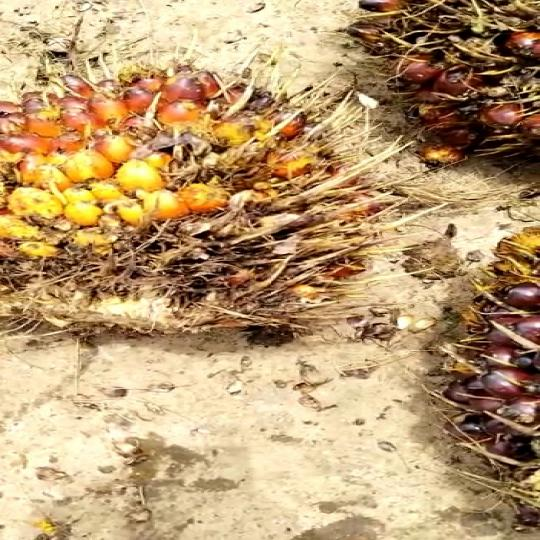masak: (0, 49, 405, 371)
